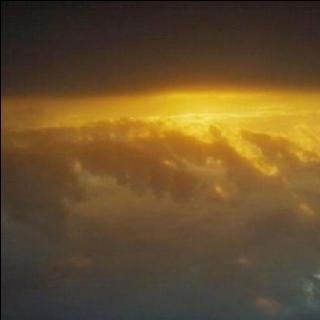Altocumulus: (0, 29, 320, 320)
